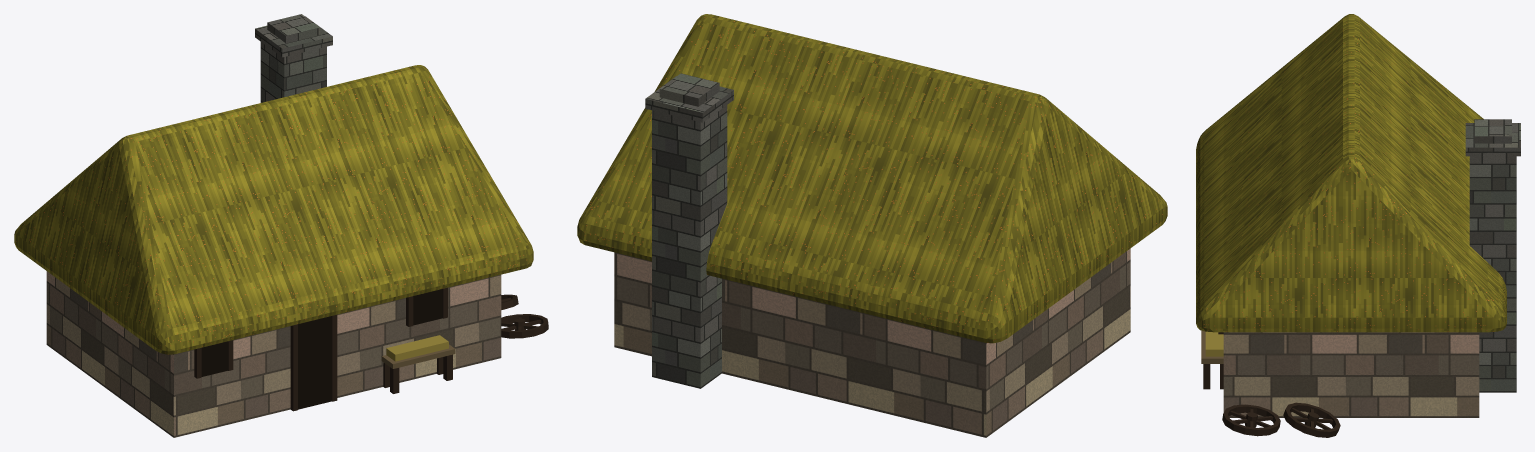
Rendered from AraHut08.glb.
3 views of the same model, side by side, from view 1: azimuth 30°, elevation 25°; view 2: azimuth 150°, elevation 25°; view 3: azimuth 270°, elevation 25° (orthographic). The views are drawn at different scales.
Visible parts, largest first — view 1: AraHut08_wall; view 2: AraHut08_wall; view 3: AraHut08_wall.
Boxes of the visible parts, left/top/right/bottom form: AraHut08_wall: left=14, top=14, right=548, bottom=437; AraHut08_wall: left=577, top=14, right=1167, bottom=437; AraHut08_wall: left=1196, top=14, right=1520, bottom=437.
Bounding box in the file's own units: 6.86 × 4.06 × 4.7.
Materials: 7 (3 with a texture image).
